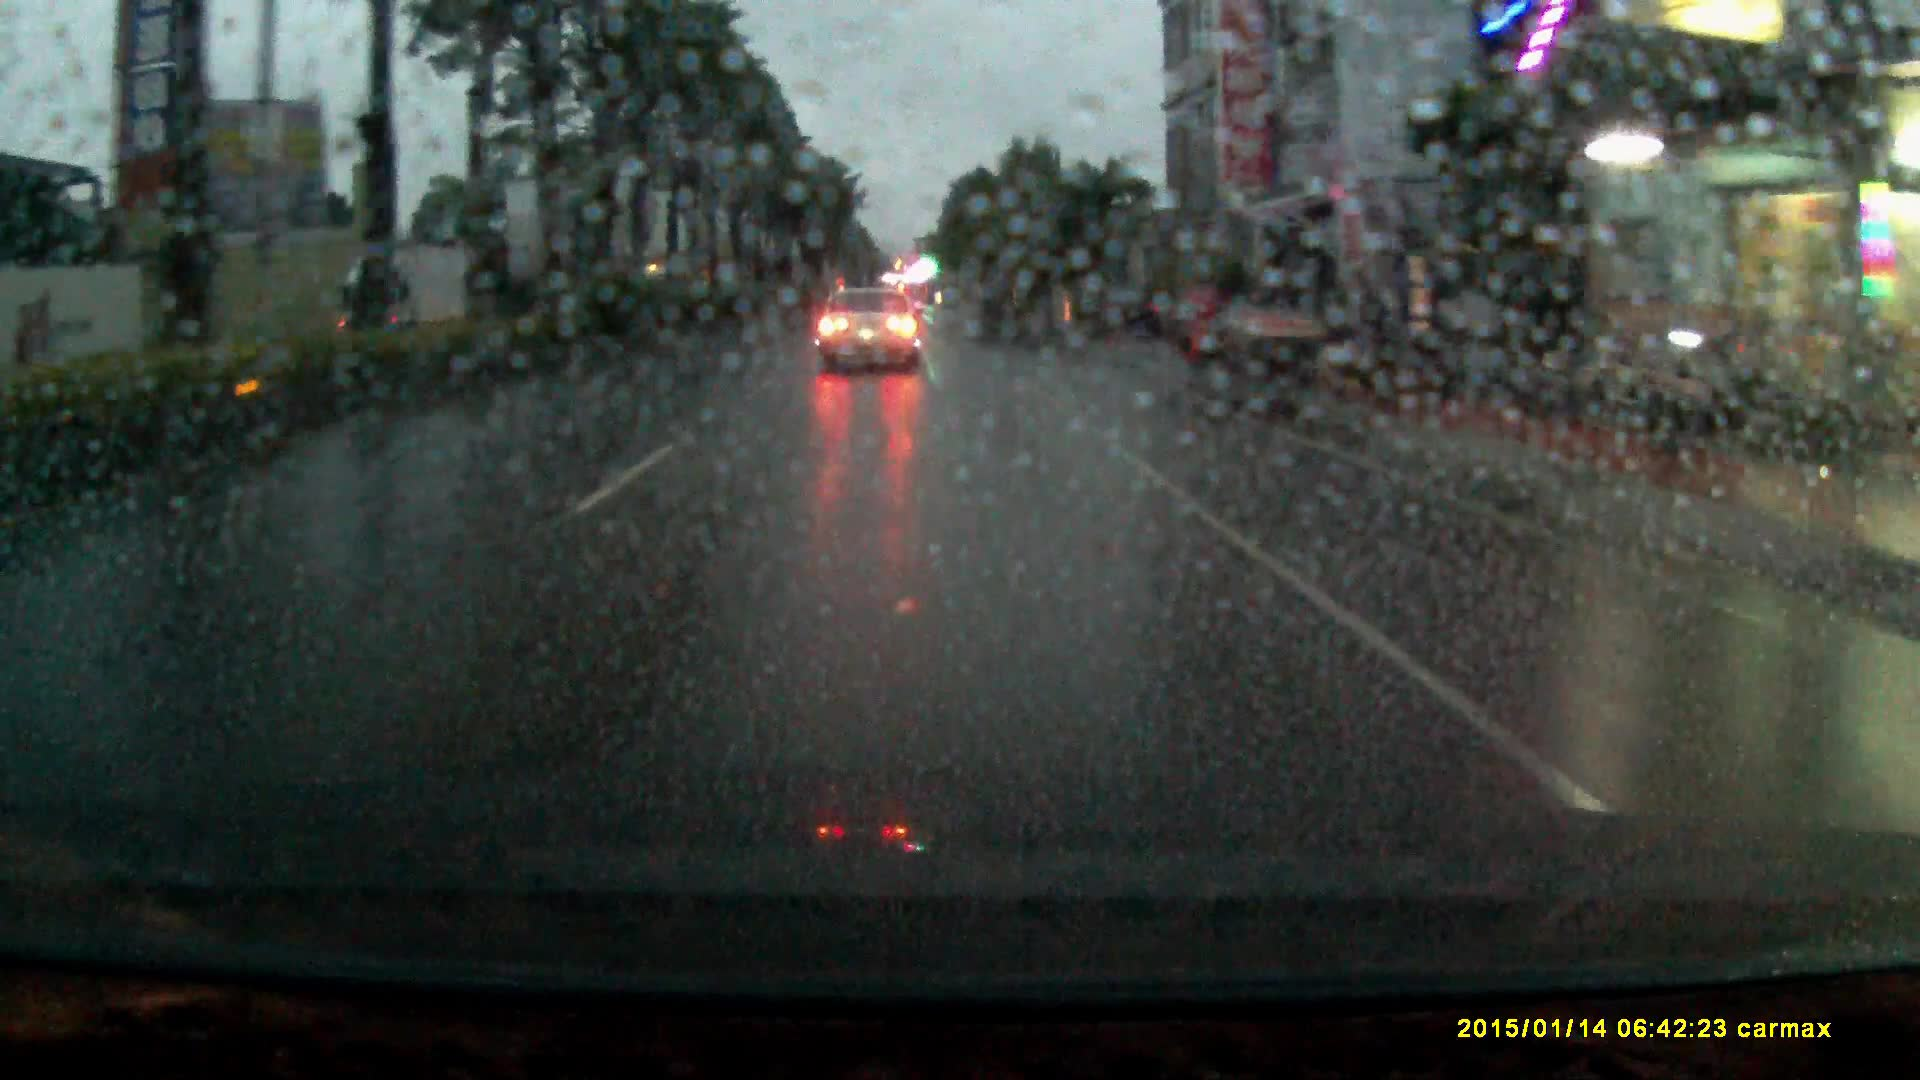vehicle: (328, 244, 483, 328), (818, 284, 920, 377), (1081, 286, 1163, 339)
